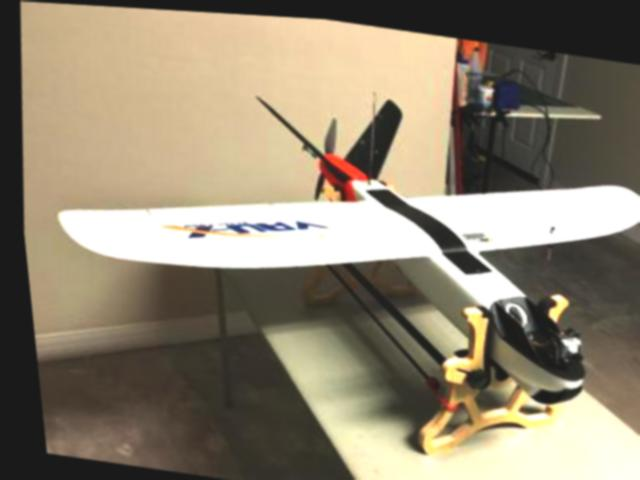uav: (26, 48, 640, 401)
